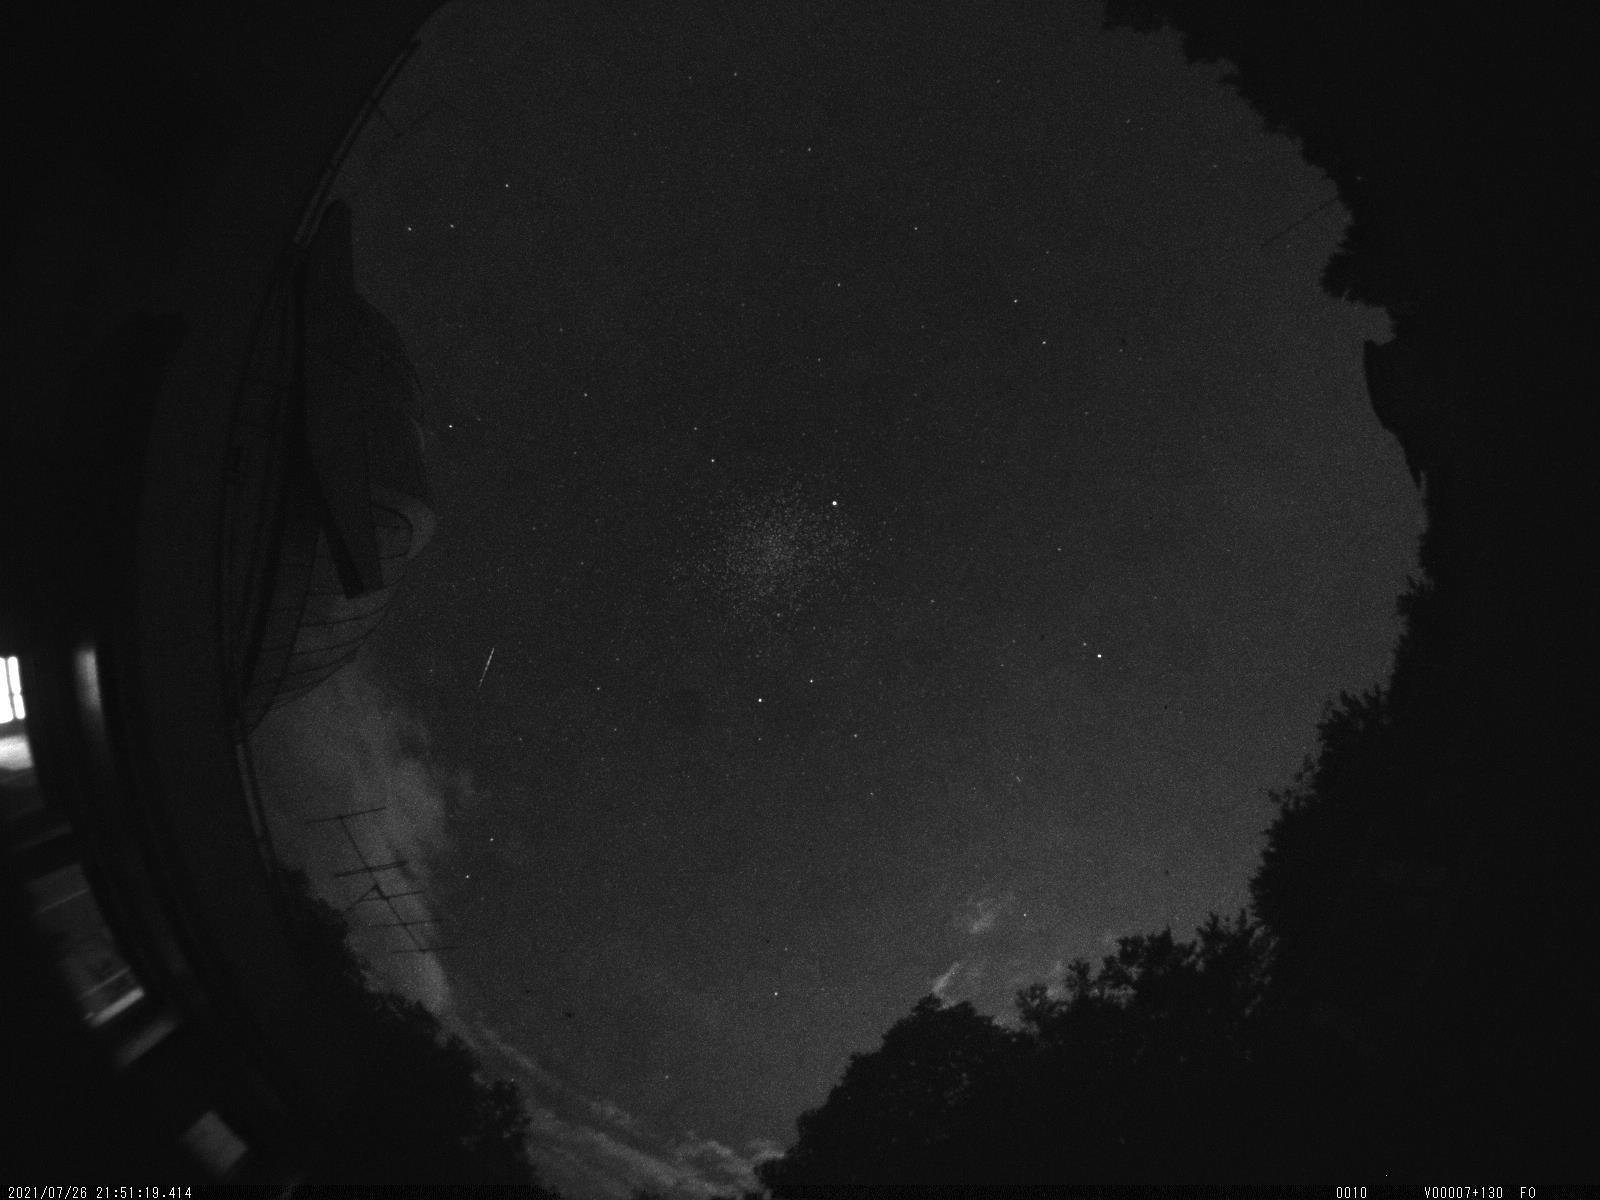Meteor: (474, 639, 502, 700)
